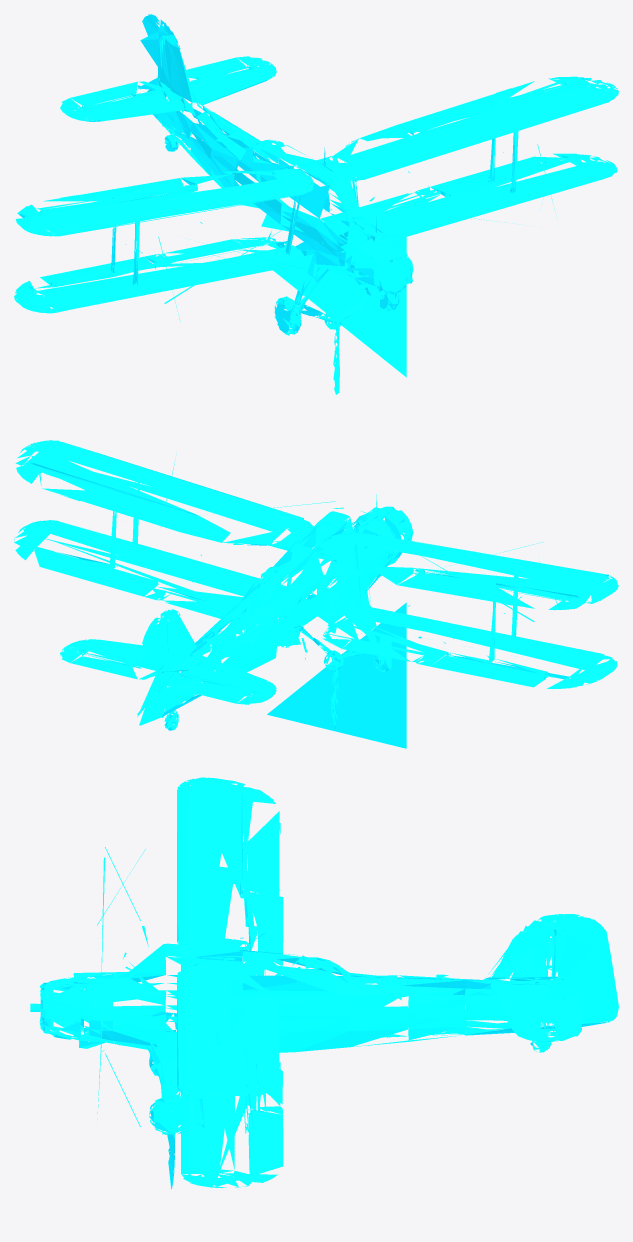
Rendered from PBAB106.glb.
3 views of the same model, one above another, from view 1: azimuth 30°, elevation 25°; view 2: azimuth 150°, elevation 25°; view 3: azimuth 270°, elevation 25° (orthographic). The views are drawn at different scales.
Visible parts, largest first — view 1: misc; view 2: misc; view 3: misc.
Part boxes in pixels (box(x1,y1,x2,y2)): misc: box(14, 14, 618, 394); misc: box(14, 440, 618, 748); misc: box(30, 777, 618, 1189).
Bounding box in the file's own units: 1.02 × 0.4048 × 0.8055.
